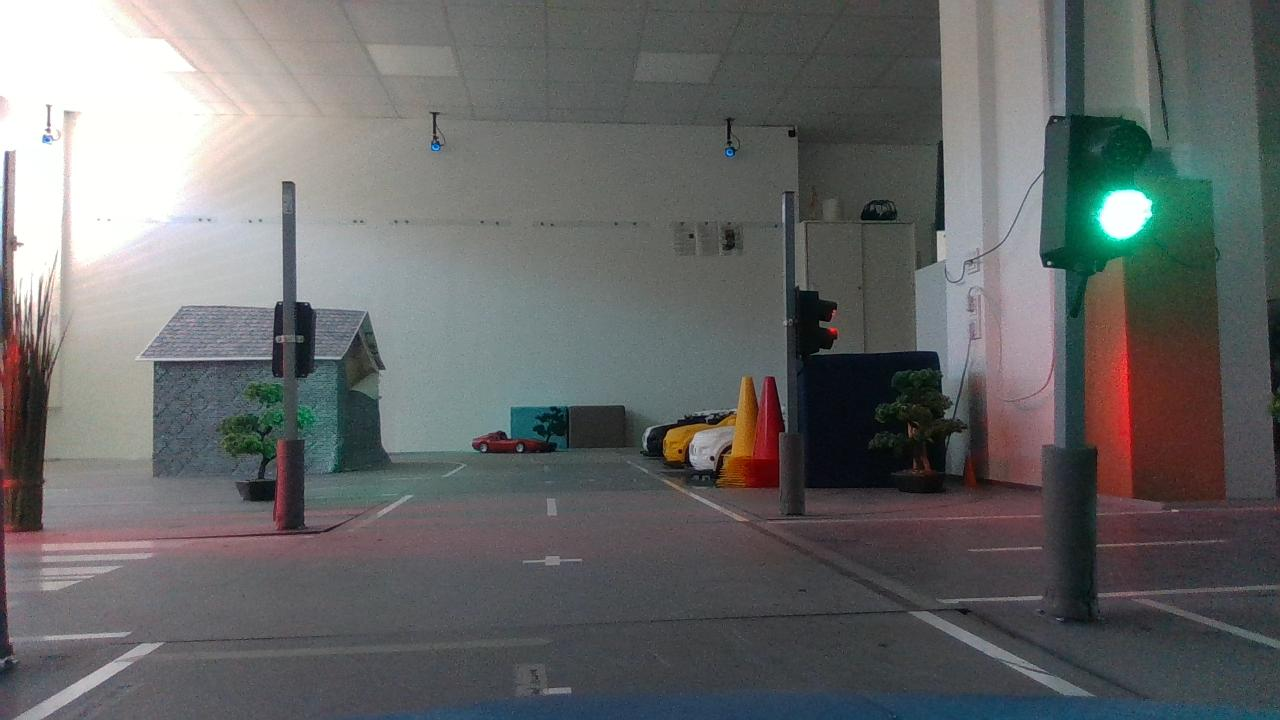traffic_light_green: (1021, 100, 1169, 283)
